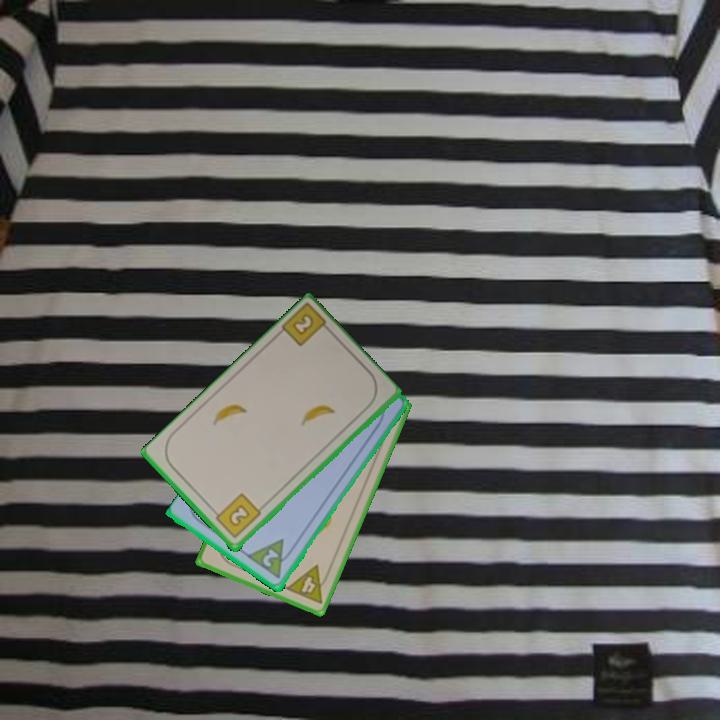2b: (209, 490, 264, 542), (277, 302, 335, 350)
2p: (259, 546, 282, 571)
4p: (282, 562, 333, 607)
